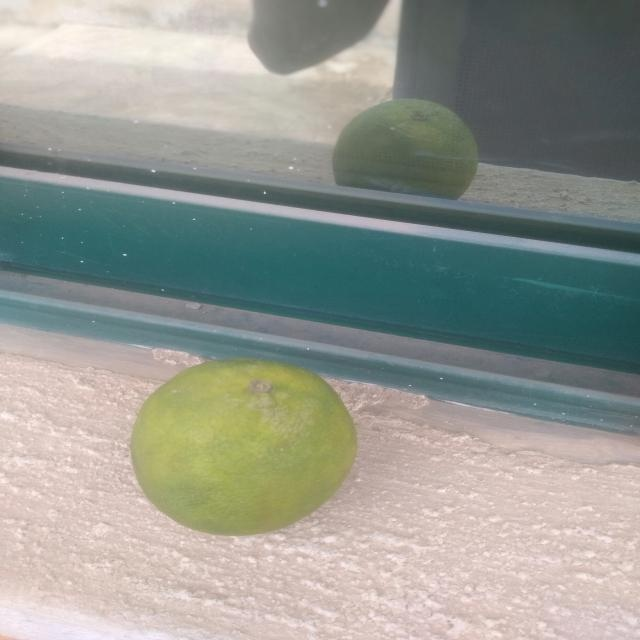agrume: (128, 347, 418, 582)
